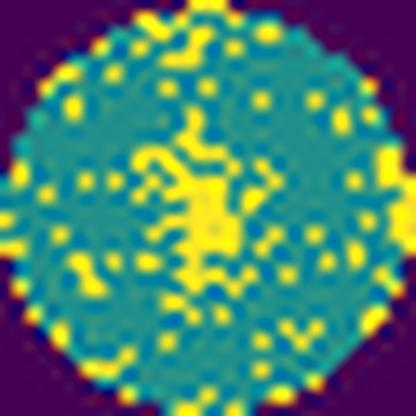Center: (132, 108, 266, 296)
